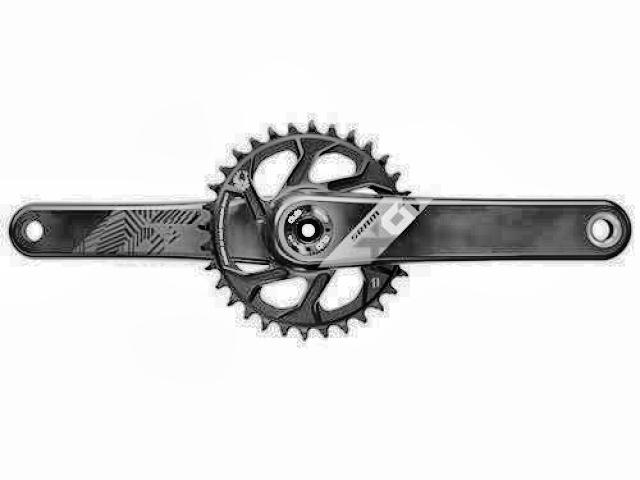cranks_set: (200, 117, 634, 338)
